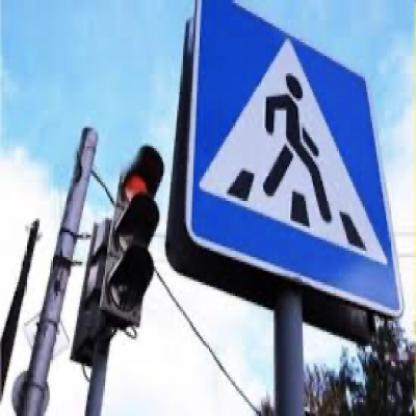crosswalk: (186, 0, 404, 320)
trafficlight: (108, 144, 163, 328)
